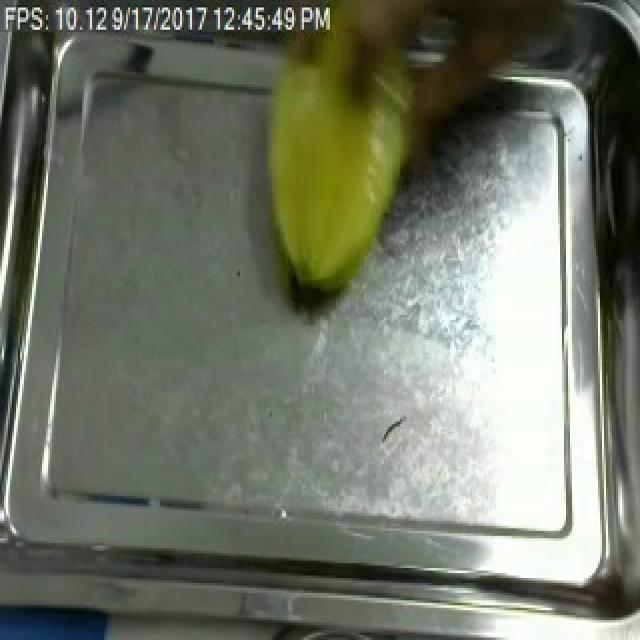fruit: (238, 30, 424, 310)
